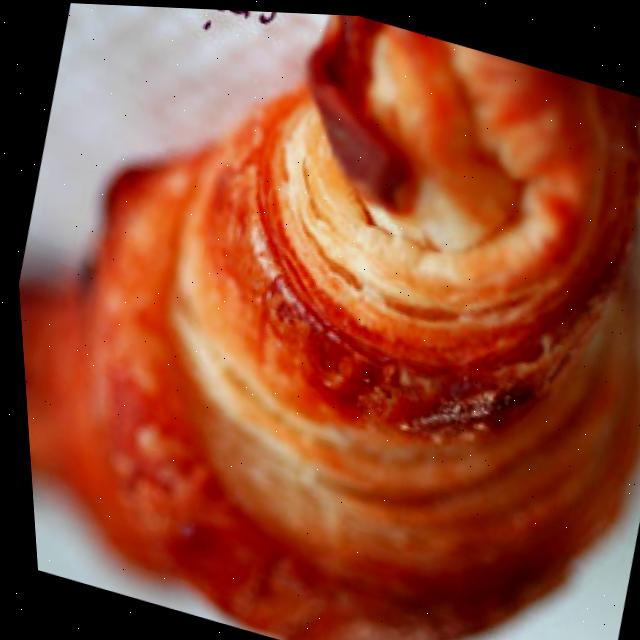面包点心: (135, 5, 640, 640)
